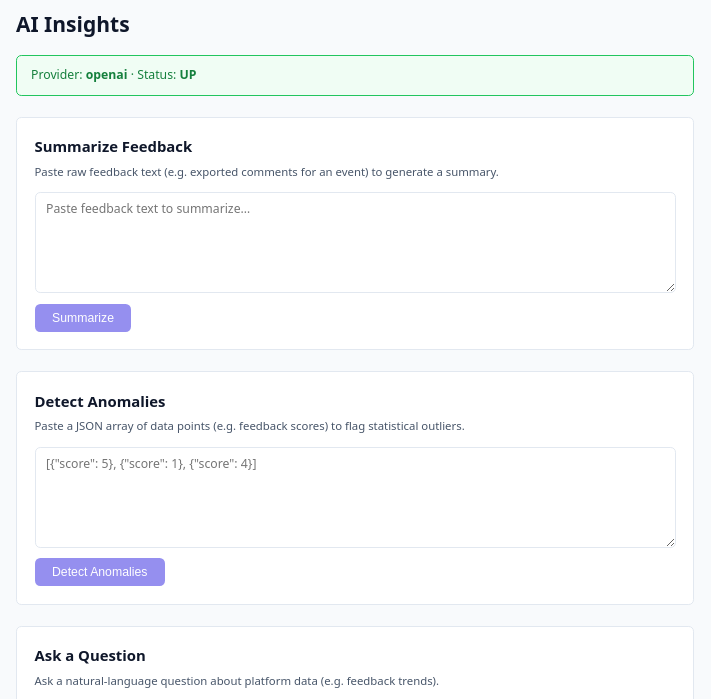
Scenario: AiInsightsContent › rejects an invalid JSON dataset for anomaly detection
The image size is (711, 699).
Expected: the text "openai" is shown, top-left (86, 66), bottom-right (128, 83)
Type "not json" into the text box named "Dataset (JSON array)" at (355, 497), box top-left (34, 447), bottom-right (676, 548)
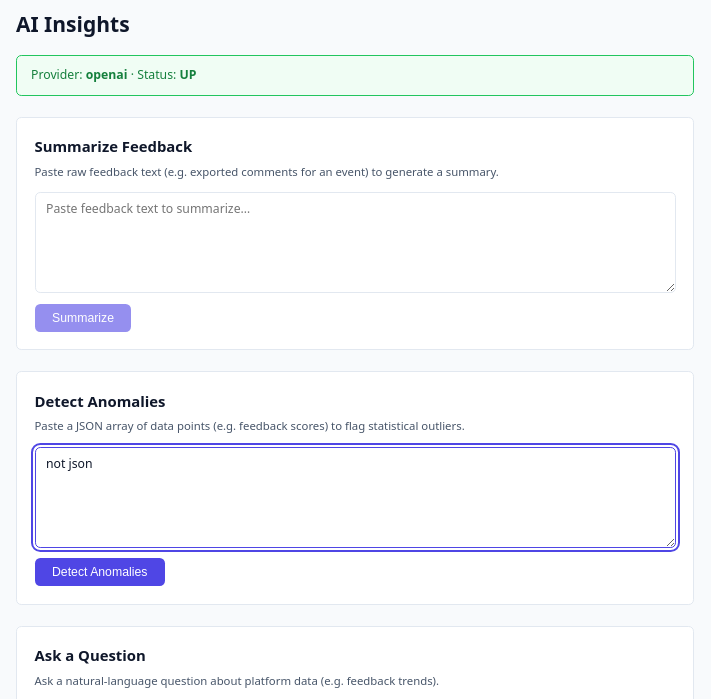
Click the button "Detect Anomalies" at (100, 572), box top-left (34, 558), bottom-right (165, 586)
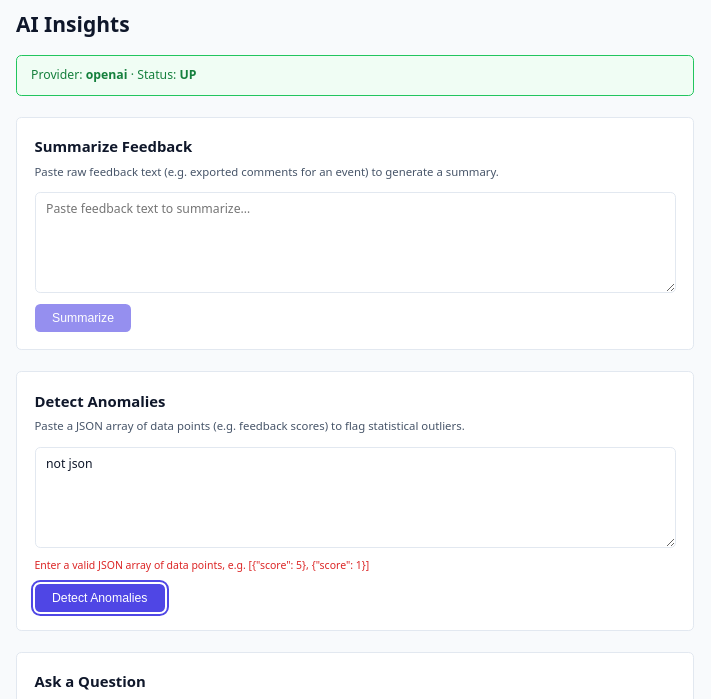
Expected: the text "Enter a valid JSON array of data points, e.g. [{\"score\": 5}, {\"score\": 1}]" is shown, top-left (34, 558), bottom-right (369, 572)
